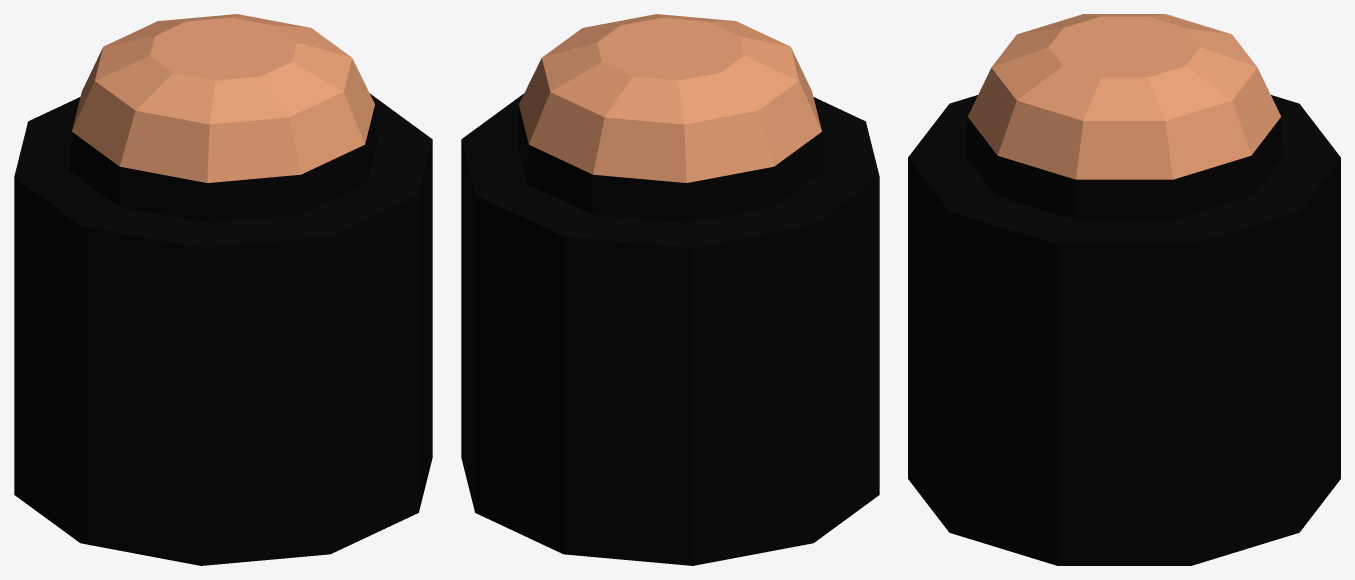
File: pepper.fbx
3 renders of one model, left to right at view 1: azimuth 30°, elevation 25°; view 2: azimuth 150°, elevation 25°; view 3: azimuth 270°, elevation 25°, orthographic.
Parts seen in each view (by area): view 1: papper; view 2: papper; view 3: papper.
Part boxes in pixels (bbox=[...]): papper: bbox=[14, 14, 432, 565]; papper: bbox=[461, 14, 879, 565]; papper: bbox=[908, 14, 1340, 565].
Size of the model in its own units: 0.1063 by 0.1231 by 0.1118.
